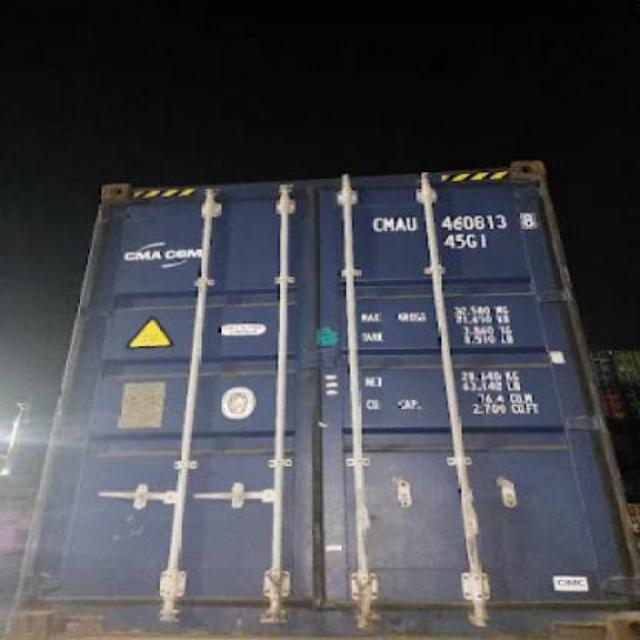0: (460, 208, 472, 230)
1: (484, 208, 496, 228)
3: (494, 208, 508, 232)
4: (438, 211, 452, 231)
6: (450, 208, 462, 230)
8: (522, 207, 536, 230), (472, 212, 486, 232)
A: (394, 208, 406, 236)
C: (368, 212, 382, 235)
M: (382, 211, 394, 235)
U: (404, 210, 418, 237)
